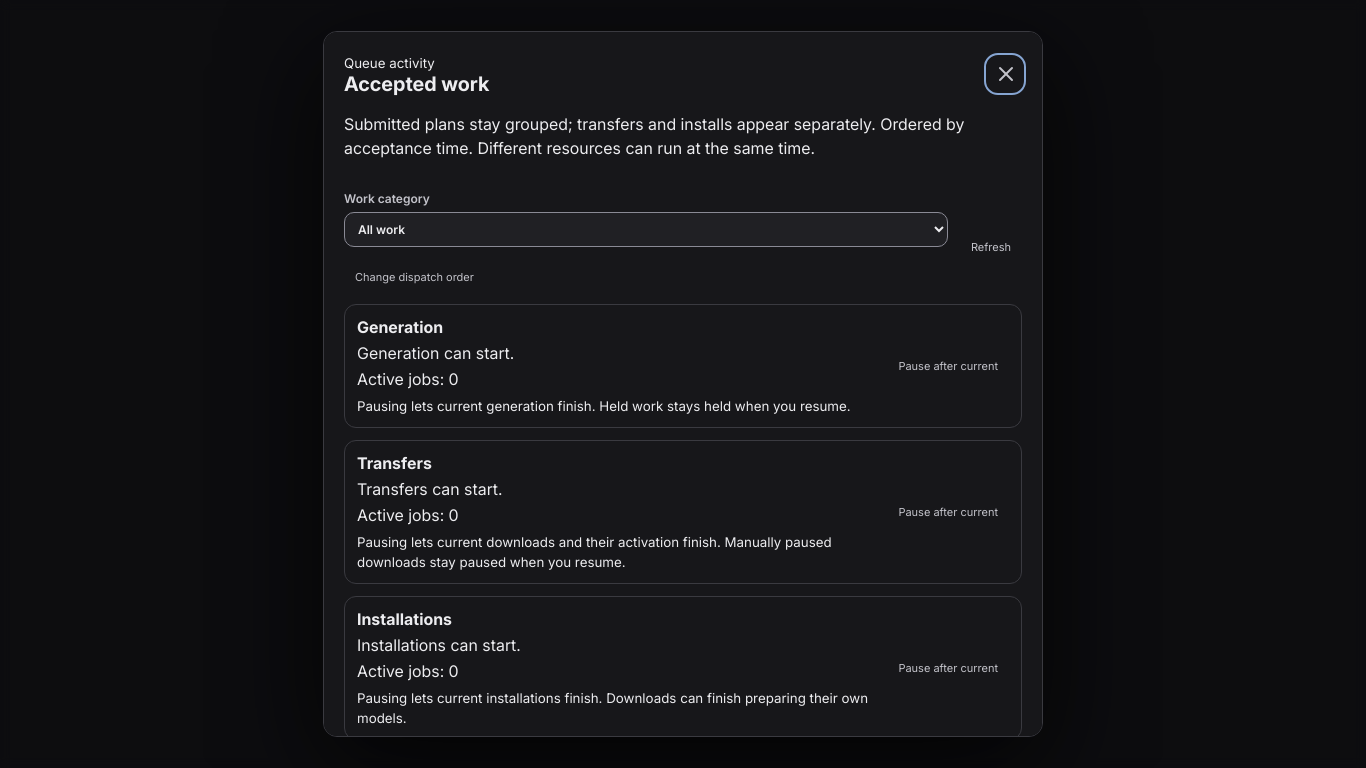
it: reuses the same command after an ambiguous network failure
Click the button with aria-label "Pause installations after current work".
click(948, 668)  # box [887,653,1009,683]
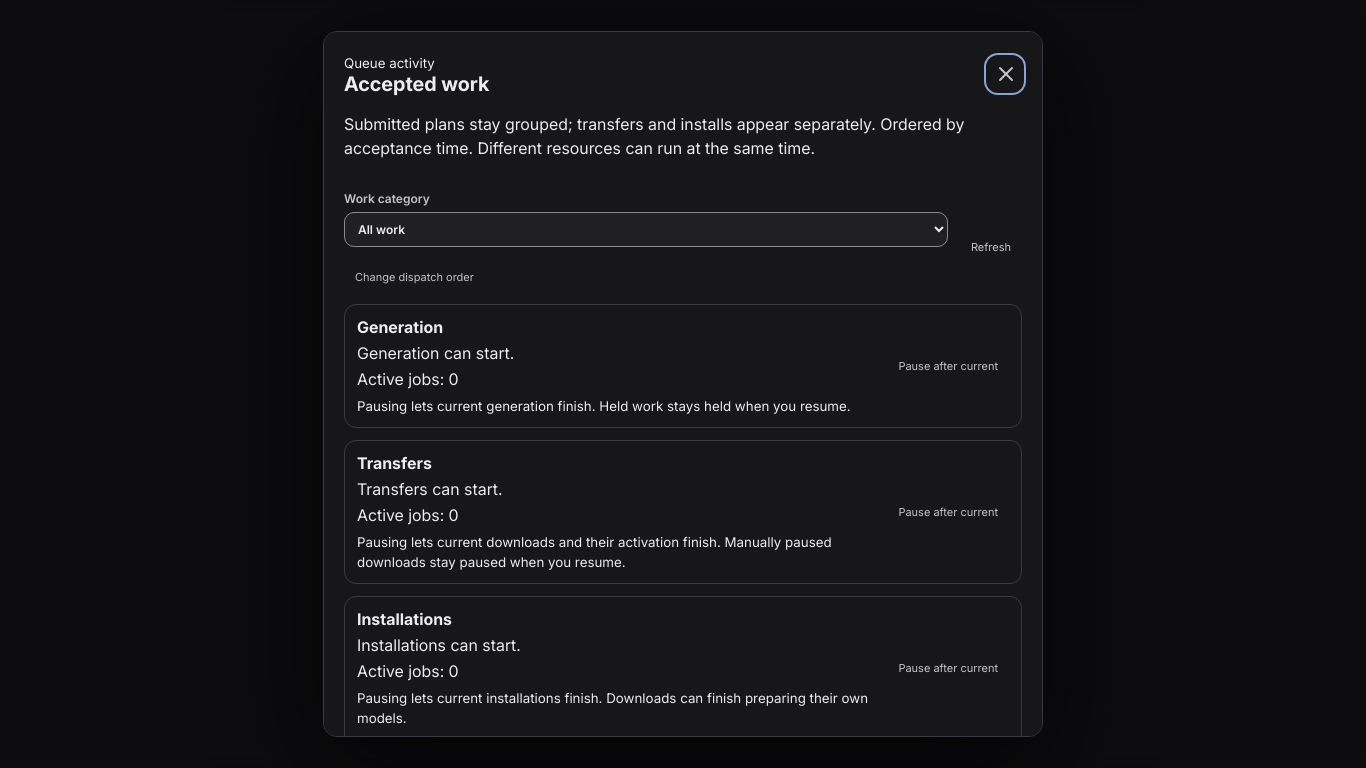
Click the button with aria-label "Pause installations after current work".
click(948, 668)  # box [887,653,1009,683]
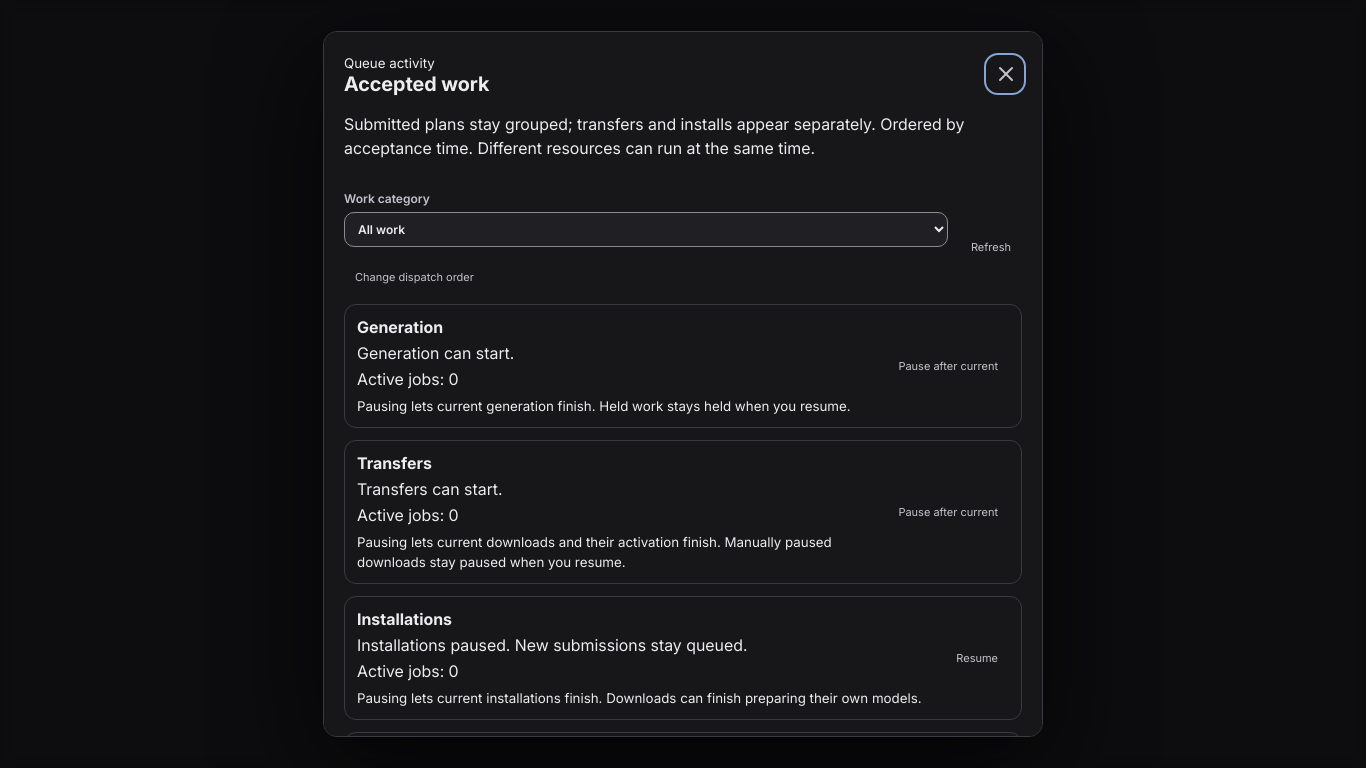
expect the button with aria-label "Resume installations" is shown: met, box [945,643,1009,673]
